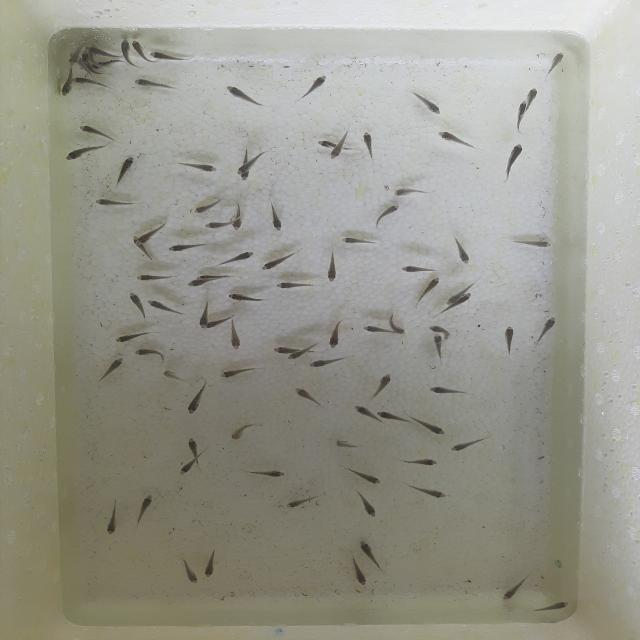fingerling: (219, 82, 276, 116), (498, 140, 526, 186), (108, 153, 138, 193), (294, 73, 330, 106), (434, 129, 482, 153), (496, 574, 537, 602), (407, 88, 446, 117), (92, 354, 125, 387), (259, 249, 301, 274), (528, 314, 559, 347), (282, 489, 326, 512), (132, 490, 159, 526), (338, 464, 382, 486), (72, 120, 118, 141), (226, 420, 266, 444), (352, 488, 382, 520), (403, 481, 450, 501), (62, 143, 106, 164), (215, 248, 259, 269), (146, 297, 188, 319), (413, 277, 443, 307), (373, 202, 404, 231), (136, 218, 168, 246), (103, 499, 127, 536), (173, 158, 219, 177), (495, 321, 518, 357), (188, 380, 210, 417), (130, 78, 180, 94), (357, 130, 382, 162), (447, 436, 490, 454), (425, 384, 468, 402), (203, 544, 225, 579), (223, 290, 271, 306), (543, 49, 567, 81), (112, 328, 156, 345), (130, 347, 169, 366), (321, 249, 342, 284), (531, 598, 574, 615), (369, 370, 395, 398), (503, 235, 555, 249), (291, 386, 324, 408), (163, 239, 210, 254), (72, 75, 116, 91), (397, 454, 441, 470), (326, 316, 346, 351), (178, 557, 202, 585), (416, 417, 448, 438), (389, 184, 436, 198), (223, 320, 244, 351), (268, 280, 318, 293), (348, 561, 371, 589), (126, 290, 146, 322), (93, 197, 142, 210), (397, 262, 442, 276), (264, 203, 284, 234), (304, 356, 351, 369), (452, 234, 471, 266), (189, 198, 224, 215), (246, 466, 288, 480), (332, 436, 365, 453), (338, 236, 384, 248), (218, 366, 256, 380), (358, 539, 379, 564), (349, 404, 377, 421), (388, 313, 408, 335), (132, 272, 174, 282), (431, 334, 446, 362), (200, 219, 232, 232), (60, 68, 73, 98), (159, 369, 186, 383), (232, 203, 245, 232), (361, 323, 389, 335), (198, 302, 208, 329), (185, 436, 198, 456), (131, 39, 147, 55), (233, 163, 256, 174), (426, 323, 448, 334), (525, 87, 540, 103), (178, 462, 195, 476), (119, 38, 132, 56), (460, 292, 476, 306), (149, 50, 171, 60), (268, 344, 288, 355), (327, 148, 341, 162), (445, 294, 461, 306), (186, 280, 207, 289), (375, 410, 393, 420), (318, 138, 334, 149), (286, 351, 301, 362), (67, 56, 79, 67), (84, 46, 101, 53), (238, 173, 250, 181)
